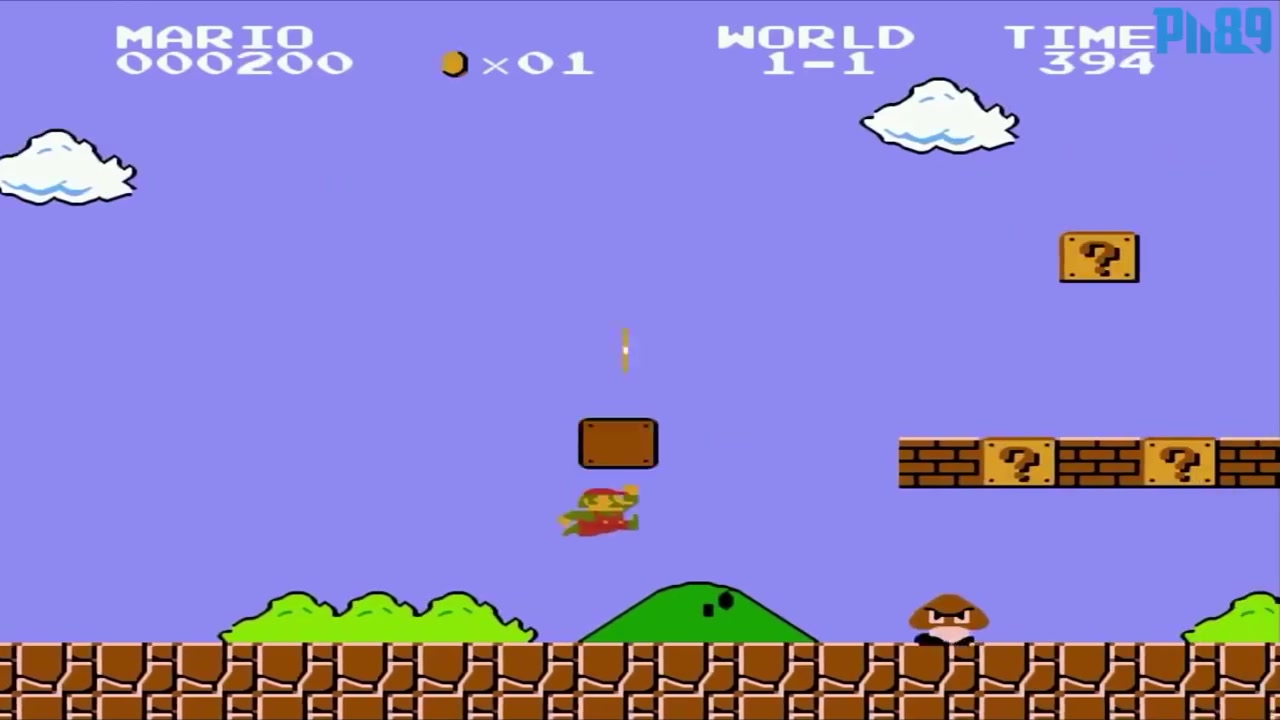mario: (553, 476, 647, 547)
